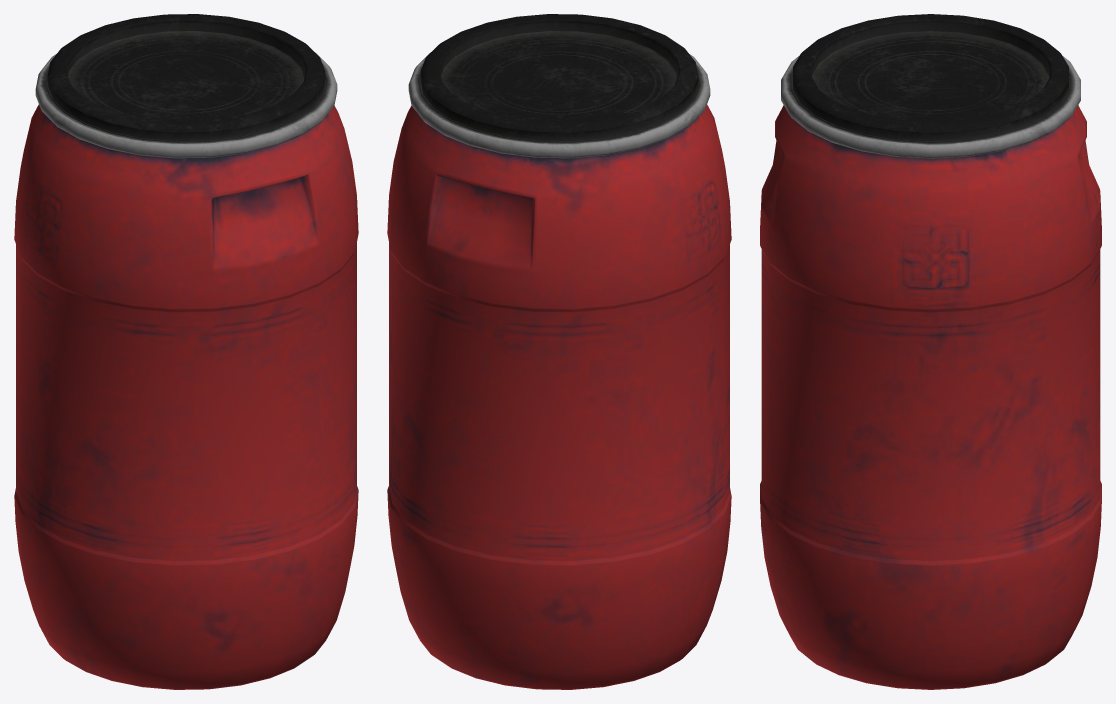
File: barrel.gltf
3 renders of one model, left to right at view 1: azimuth 30°, elevation 25°; view 2: azimuth 150°, elevation 25°; view 3: azimuth 270°, elevation 25°, orthographic.
Visible parts, largest first — view 1: Barrel_02; view 2: Barrel_02; view 3: Barrel_02.
Boxes of the visible parts, x1,y1,x2,y2 form: Barrel_02: [14, 14, 358, 689]; Barrel_02: [387, 14, 731, 689]; Barrel_02: [760, 14, 1101, 689].
Bounding box in the file's own units: 0.4882 × 0.88 × 0.4846.
Materials: 1 (1 with a texture image).
